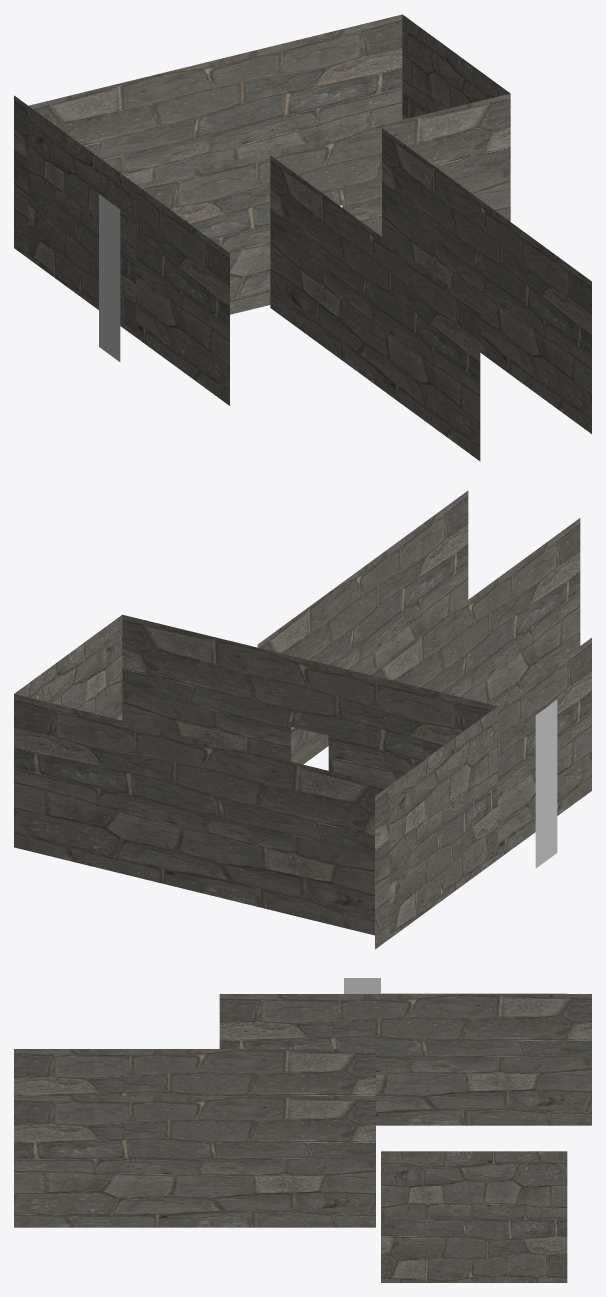
File: mura.fbx
3 views of the same model, one above another, from view 1: azimuth 30°, elevation 25°; view 2: azimuth 150°, elevation 25°; view 3: azimuth 270°, elevation 25° (orthographic). The views are drawn at different scales.
Parts seen in each view (by area): view 1: object_184, object_184.003, object_184.004, object_184.002, object_191; view 2: object_184, object_184.003, object_184.004, object_184.002, object_191; view 3: object_184.004, object_184.002, object_184, object_184.003, object_191.
Boxes of the visible parts, box(x1,y1,x2,y2) form: object_184: box(28, 14, 510, 337); object_184.003: box(270, 155, 480, 461); object_184.004: box(382, 128, 591, 433); object_184.002: box(14, 95, 229, 405); object_191: box(99, 194, 120, 361); object_184: box(14, 614, 497, 938); object_184.003: box(369, 518, 580, 706); object_184.004: box(257, 490, 468, 764); object_184.002: box(375, 638, 591, 949); object_191: box(535, 700, 557, 868); object_184.004: box(14, 1096, 375, 1227); object_184.002: box(219, 994, 591, 1125); object_184: box(381, 993, 567, 1282); object_184.003: box(14, 1049, 375, 1095); object_191: box(344, 978, 380, 993).
Size of the model in its own units: 1100 by 390 by 1552.
